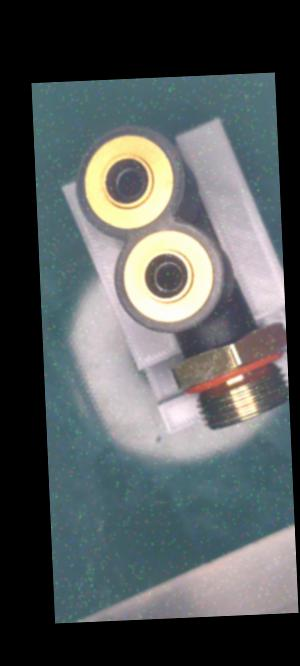craze: (204, 330, 224, 349)
